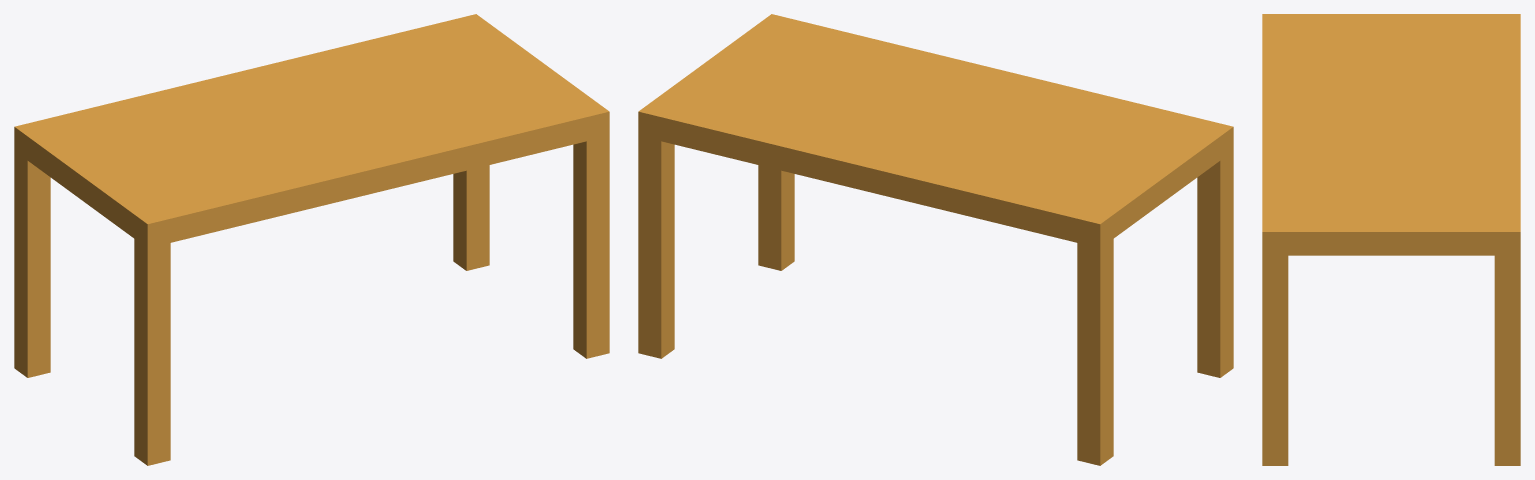
The model's file is stage-platform-medium.fbx.
3 renders of one model, left to right at view 1: azimuth 30°, elevation 25°; view 2: azimuth 150°, elevation 25°; view 3: azimuth 270°, elevation 25°, orthographic. The views are drawn at different scales.
Parts seen in each view (by area): view 1: stage-platform-medium; view 2: stage-platform-medium; view 3: stage-platform-medium.
Part boxes in pixels (left/top/right/bottom): stage-platform-medium: left=14, top=14, right=609, bottom=465; stage-platform-medium: left=638, top=14, right=1233, bottom=465; stage-platform-medium: left=1262, top=14, right=1520, bottom=465.
Size of the model in its own units: 2 by 1 by 1.
